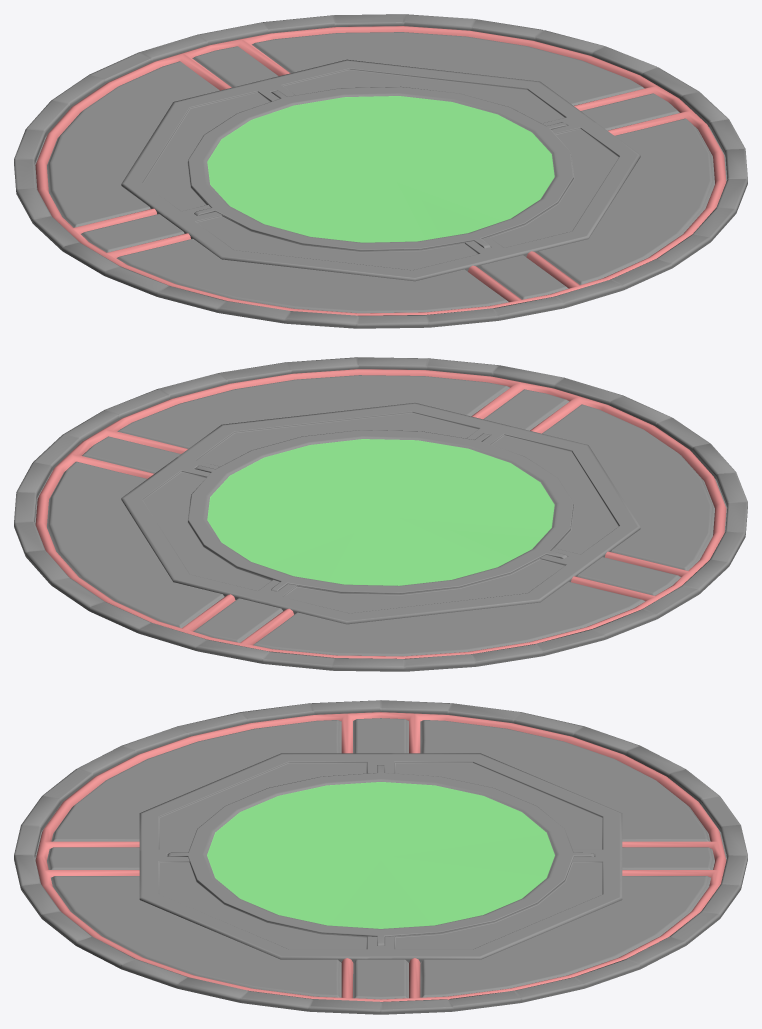
The model's file is CHN_Field_Center.gltf.
The picture shows the model from 3 angles, top to bottom: view 1: azimuth 30°, elevation 25°; view 2: azimuth 150°, elevation 25°; view 3: azimuth 270°, elevation 25°; orthographic projection.
Parts seen in each view (by area): view 1: CHN_Field_Center; view 2: CHN_Field_Center; view 3: CHN_Field_Center.
Boxes of the visible parts, bbox=[...] form: CHN_Field_Center: bbox=[14, 14, 747, 328]; CHN_Field_Center: bbox=[14, 357, 747, 671]; CHN_Field_Center: bbox=[14, 700, 747, 1014].
Size of the model in its own units: 12.11 by 0.1246 by 12.11.
